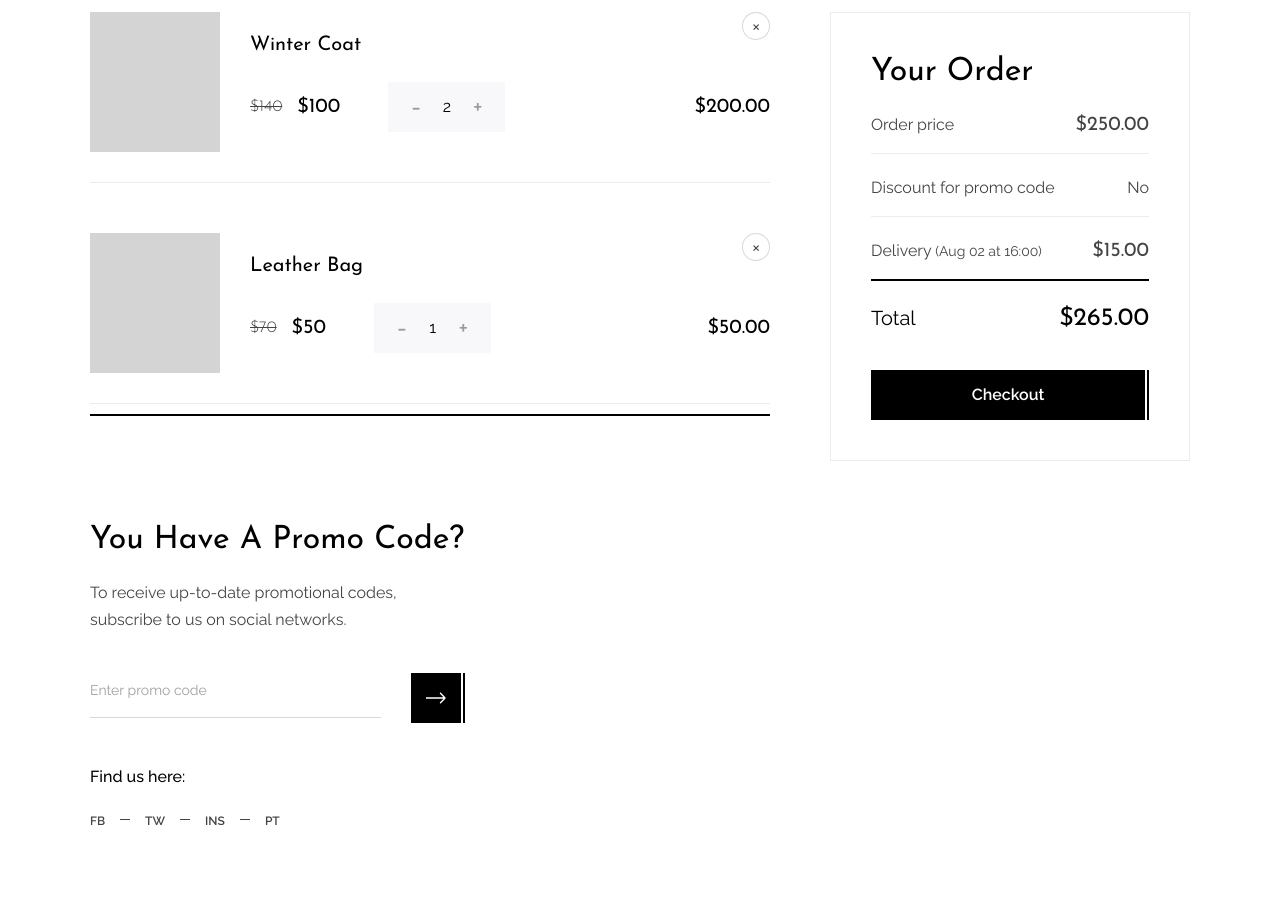
CartShowcase › shows correct order totals and applies promo code from the cart UI
Expected: the text "$250.00" is shown, [1076, 111, 1149, 138]
Expected: the text "No" is shown, [1127, 174, 1149, 201]
Type "  ILoVeReAcT  " into the field with placeholder "Enter promo code" at (236, 698), box [90, 678, 381, 718]
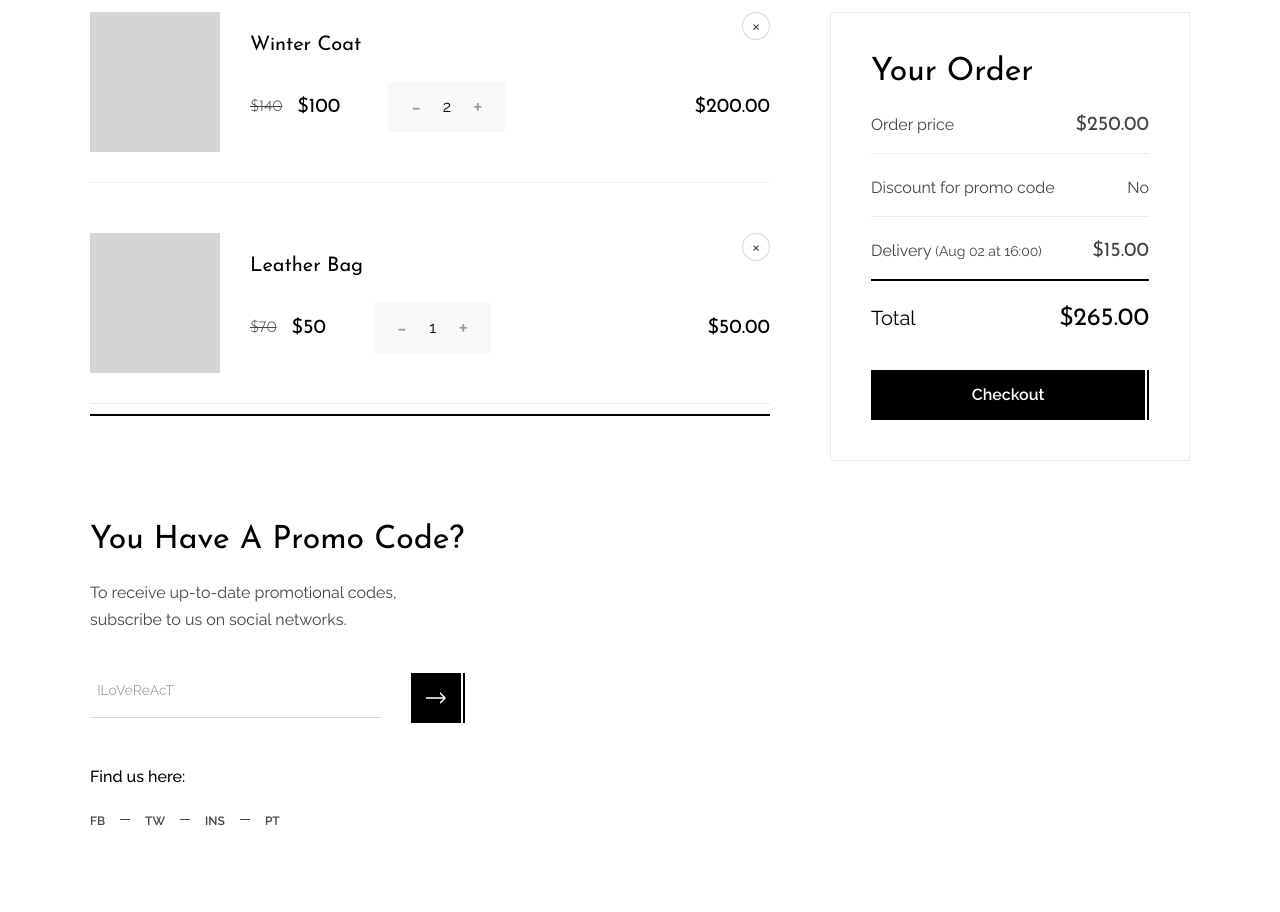
Click the 8th button at (436, 698), box [411, 673, 461, 723]
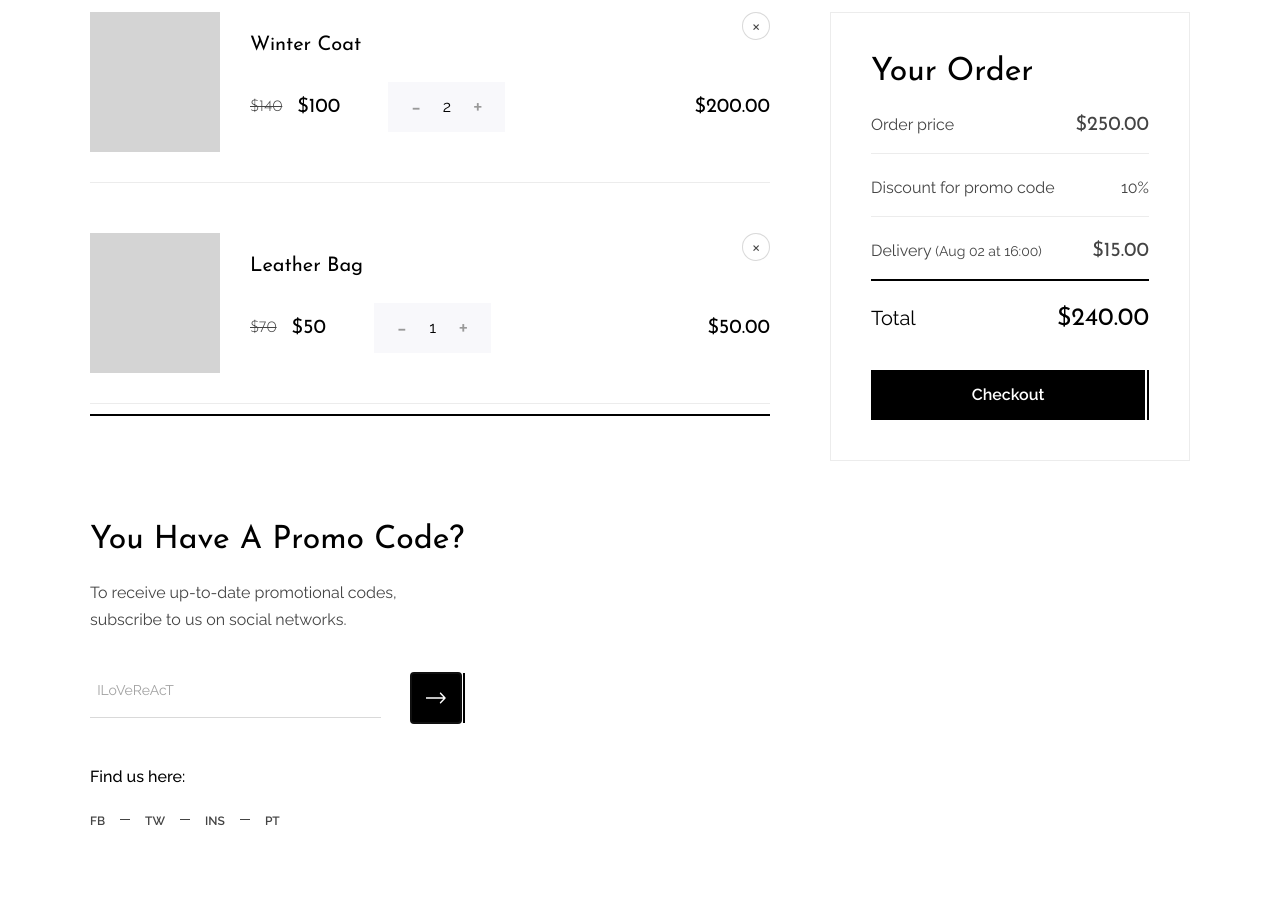
Result: the text "10%" is shown at [1121, 174, 1149, 201]
Result: the text "$240.00" is shown at [1057, 301, 1149, 335]
